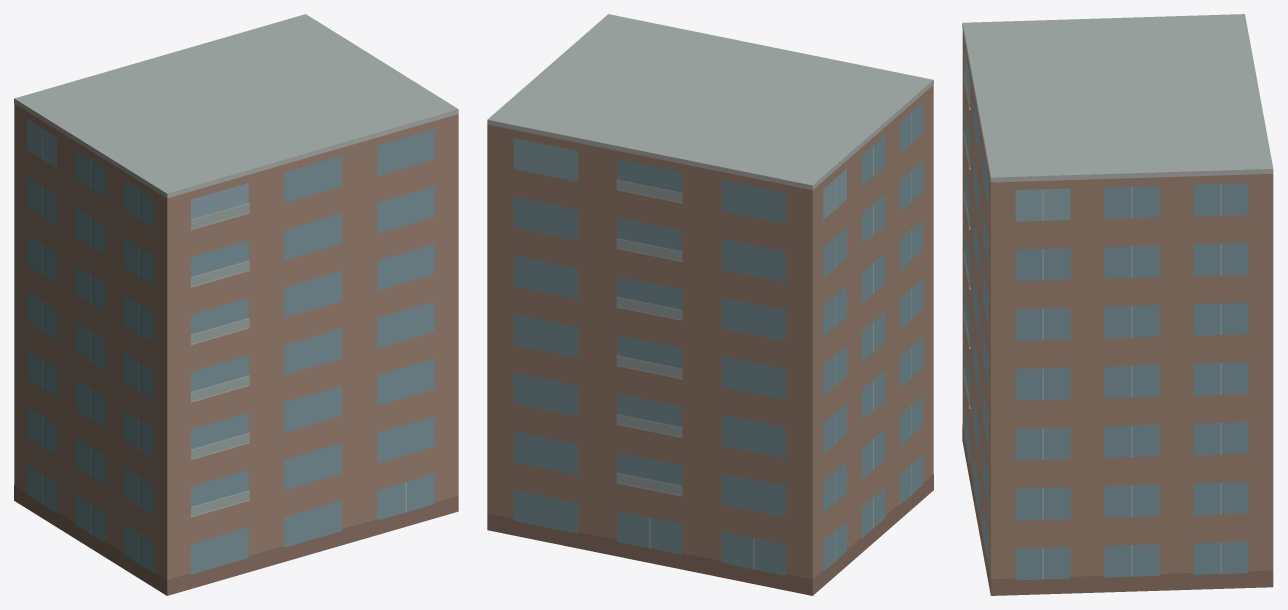
The model's file is survey-upis-32602804.glb.
The picture shows the model from 3 angles, left to right: view 1: azimuth 30°, elevation 25°; view 2: azimuth 150°, elevation 25°; view 3: azimuth 270°, elevation 25°; orthographic projection. The views are drawn at different scales.
Visible parts, largest first — view 1: survey-upis-32602804.tmp; view 2: survey-upis-32602804.tmp; view 3: survey-upis-32602804.tmp.
Part boxes in pixels (<box>): survey-upis-32602804.tmp: <box>14,14,458,595</box>; survey-upis-32602804.tmp: <box>487,14,933,595</box>; survey-upis-32602804.tmp: <box>962,14,1273,595</box>.
Size of the model in its own units: 17.54 by 20.9 by 14.09.
